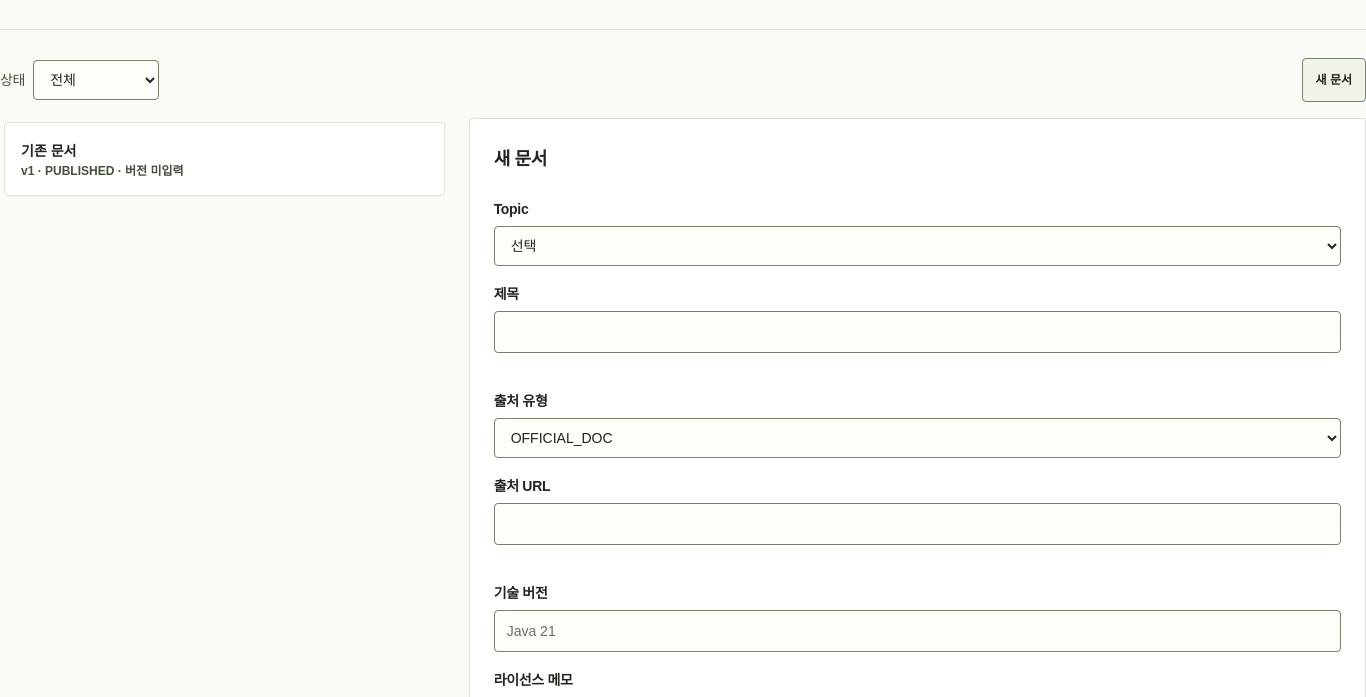
it: 관리자 근거 문서 화면 › 문단 생성 성공 뒤 늦게 실패한 기존 조회 오류를 무시한다
Step 1. Click the button "기존 문서 v1 · PUBLISHED · 버전 미입력" → (49, 151), box [5, 123, 444, 195]
(page scrolled)
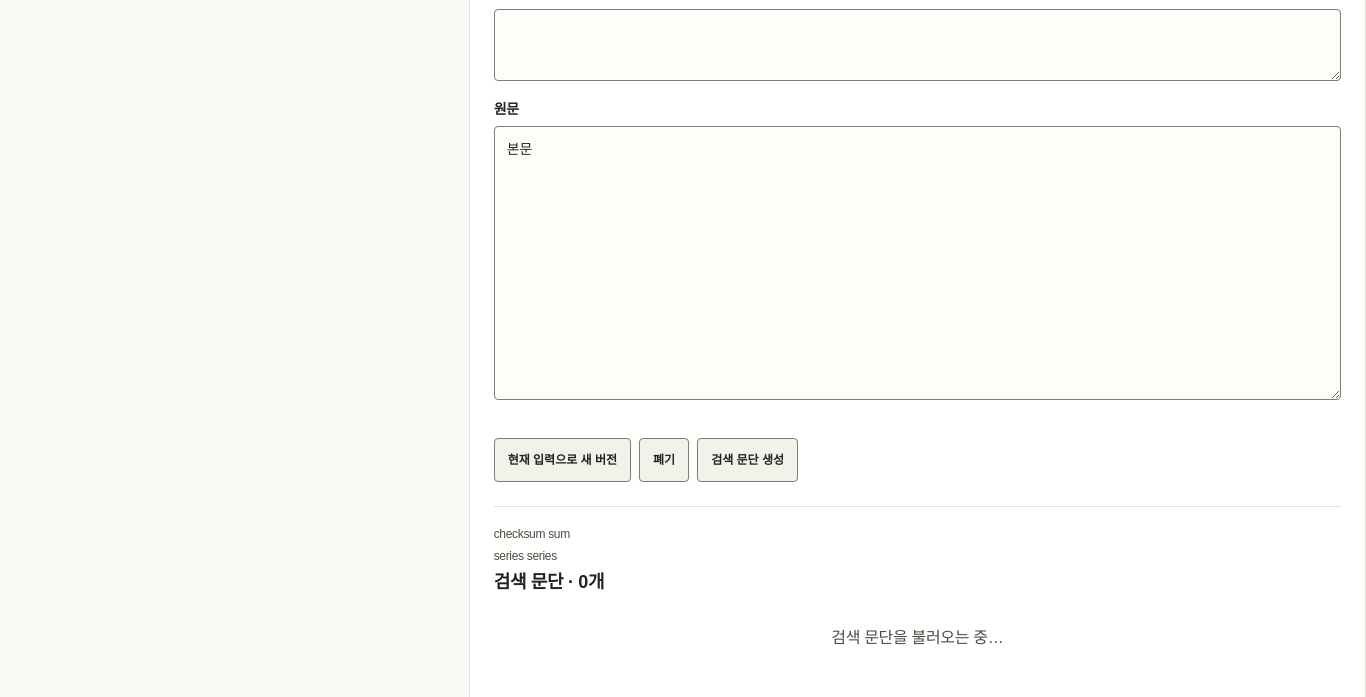
Step 2. Click the button "검색 문단 생성" → (748, 460), box [697, 438, 798, 482]
(page scrolled)
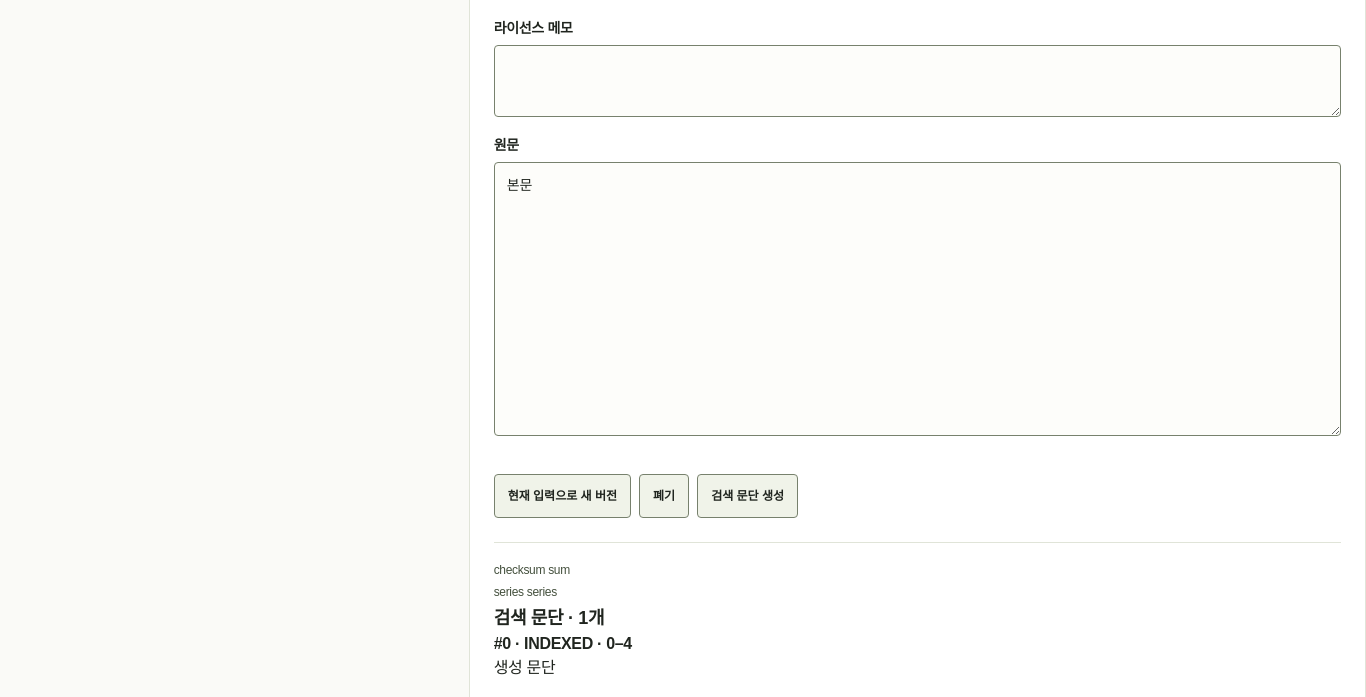
Expected: the text "생성 문단" is shown, [494, 659, 555, 676]
